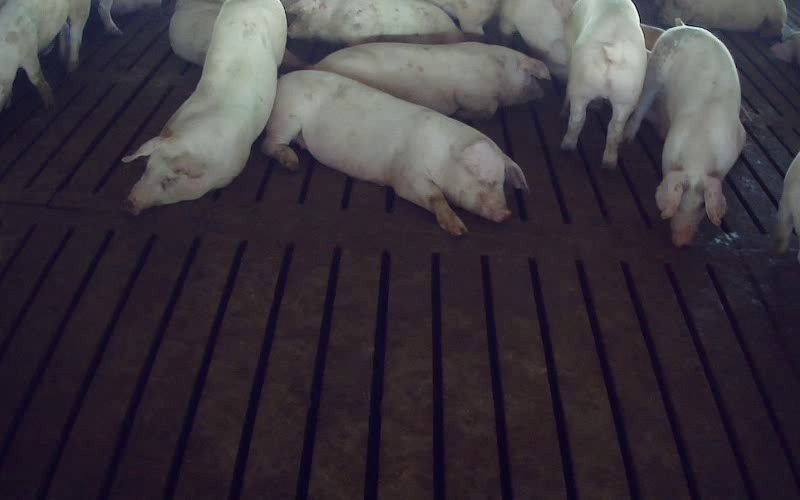pig: (262, 70, 526, 235), (123, 0, 286, 213), (625, 26, 745, 245), (314, 42, 549, 118), (554, 0, 646, 167), (286, 0, 459, 44), (661, 0, 786, 37)
